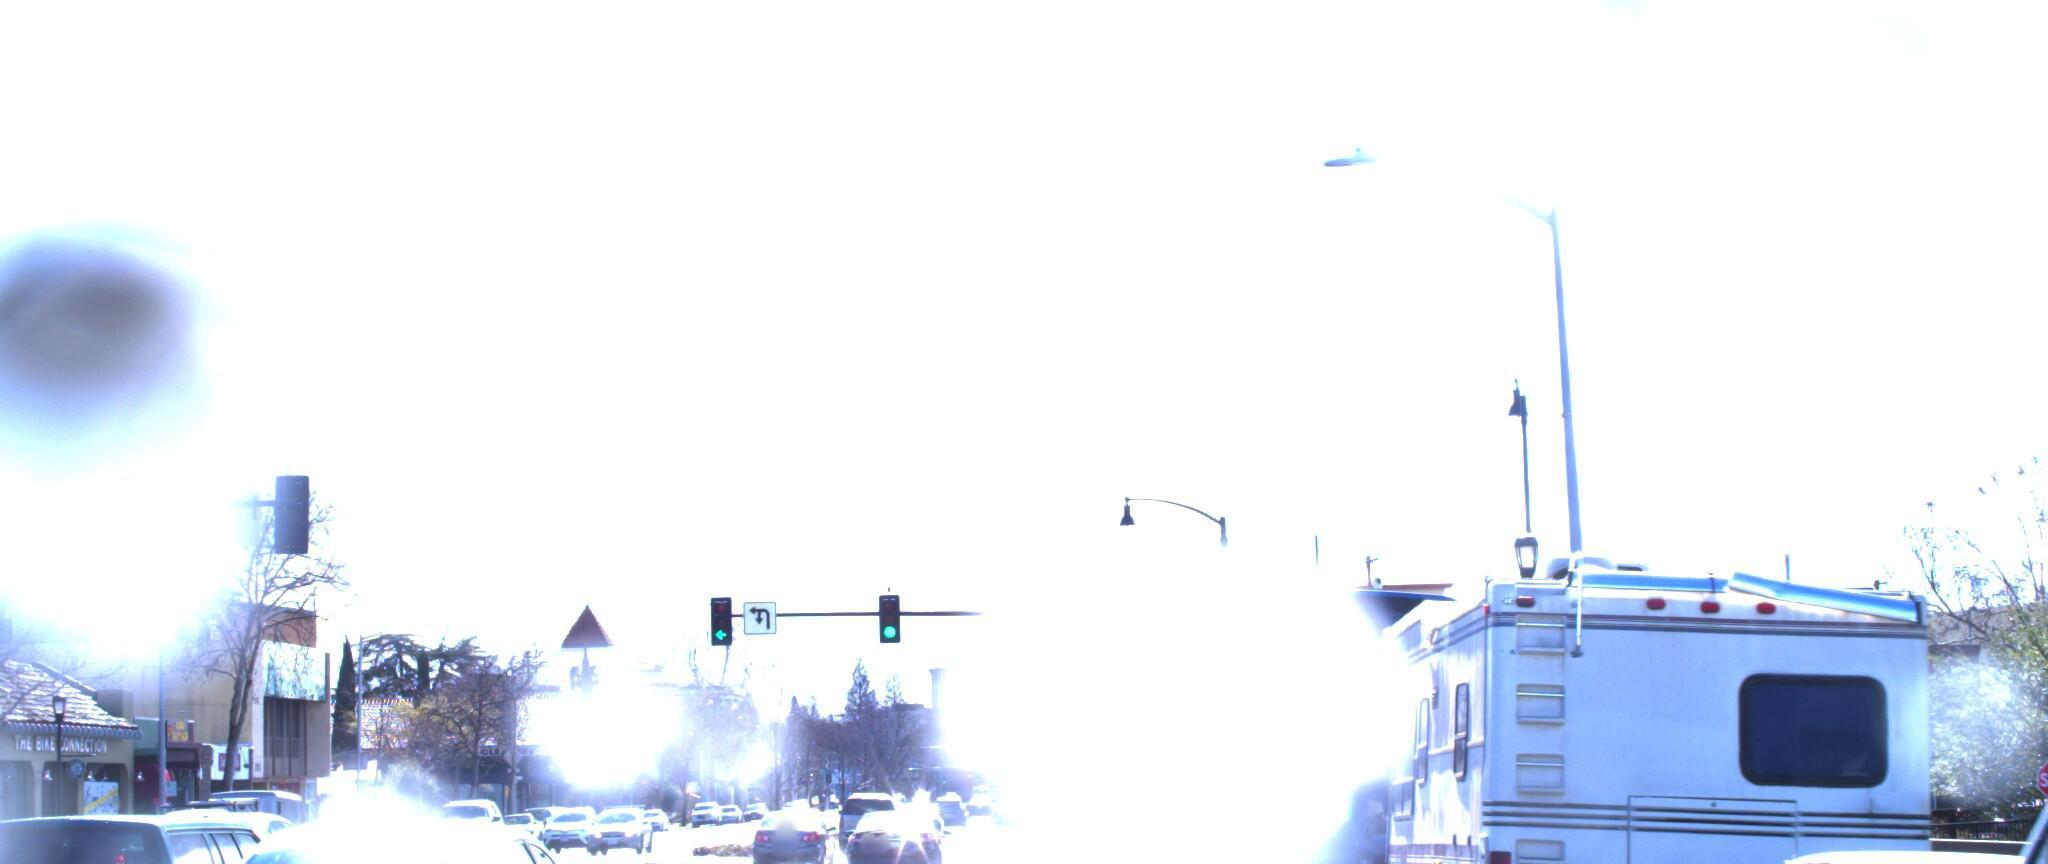car: (1809, 529, 2048, 864), (101, 801, 666, 864), (1586, 814, 2048, 864), (0, 804, 350, 864), (840, 790, 951, 864), (1000, 791, 1098, 864), (734, 795, 836, 864)
other_vehicle: (1341, 496, 1983, 864)
truck: (1230, 563, 1546, 864)
